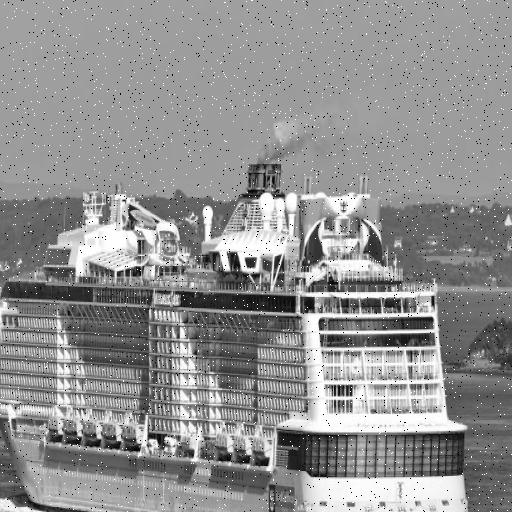cruises: (1, 150, 478, 512)
